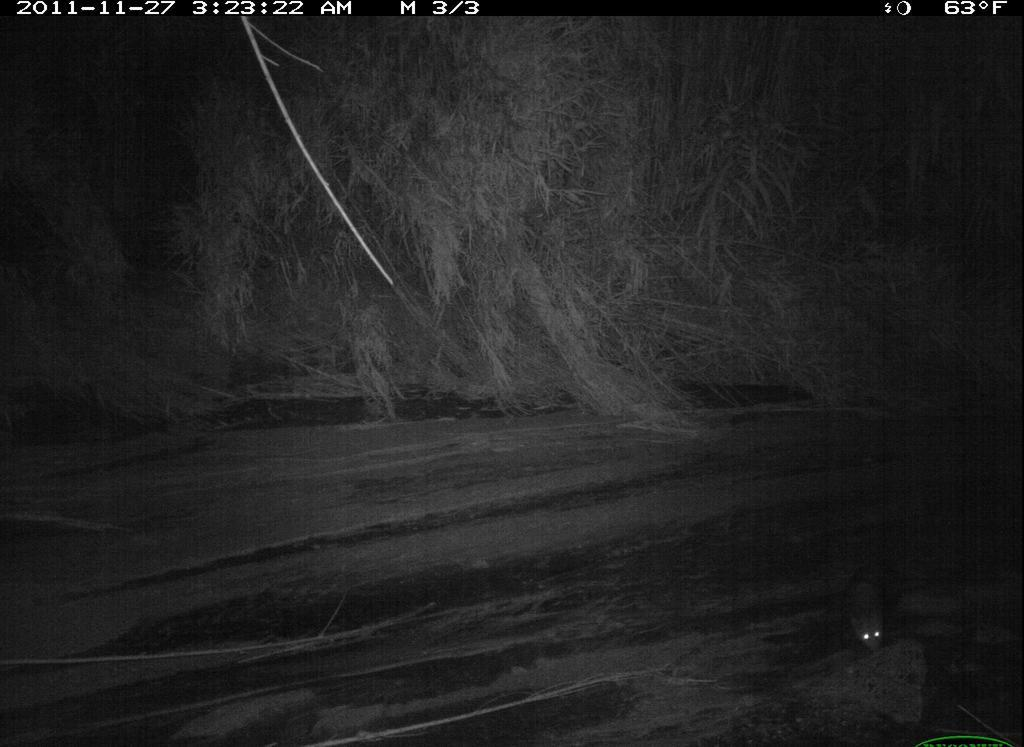opossum: (836, 539, 903, 656)
